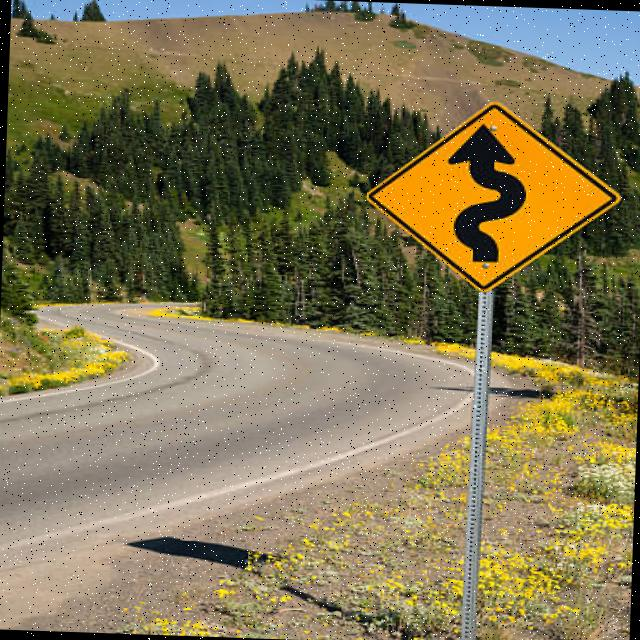left_sharp_curve: (350, 91, 633, 302)
